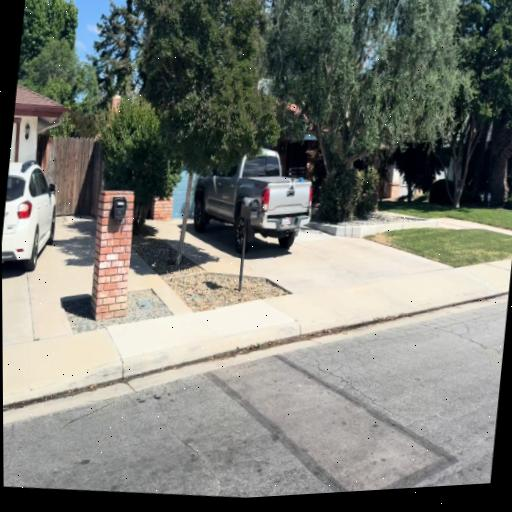target1: (289, 178, 296, 190)
